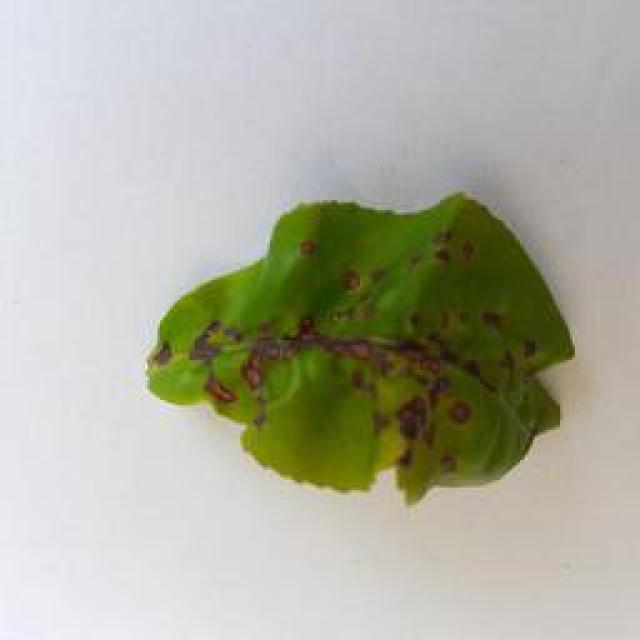Helopeltis: (143, 177, 587, 523)
